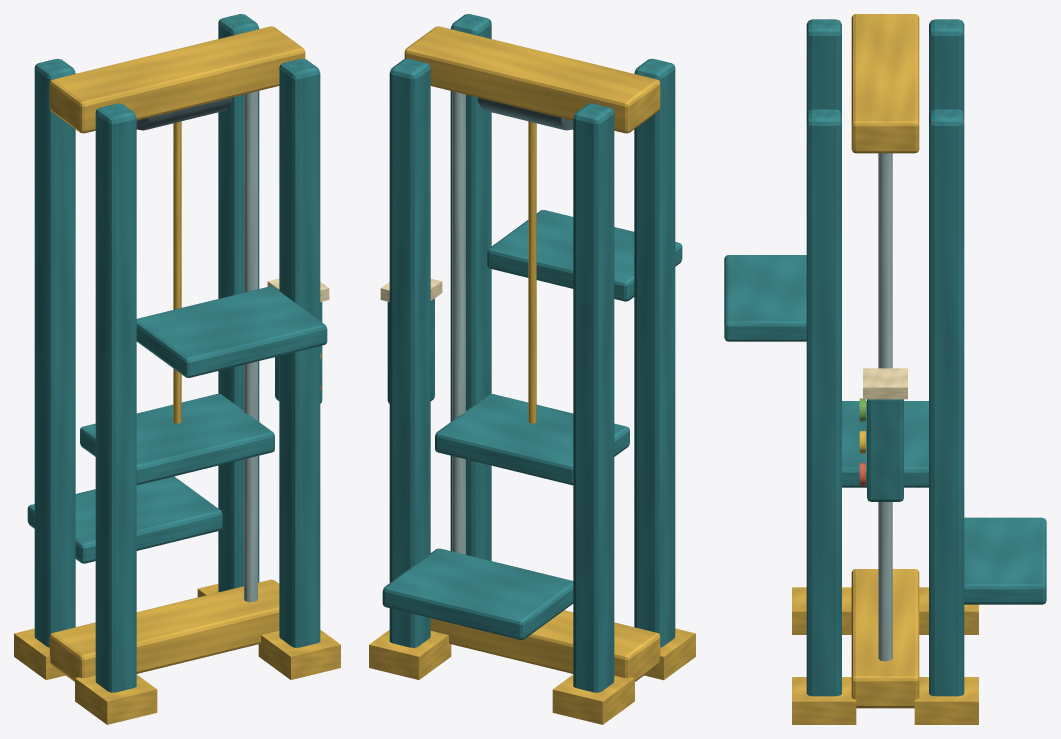
Rendered from industry-lift.glb.
3 renders of one model, left to right at view 1: azimuth 30°, elevation 25°; view 2: azimuth 150°, elevation 25°; view 3: azimuth 270°, elevation 25°, orthographic.
Visible parts, largest first — view 1: industry-lift-mesh; view 2: industry-lift-mesh; view 3: industry-lift-mesh.
Boxes of the visible parts, x1,y1,x2,y2 form: industry-lift-mesh: (14,14,340,724); industry-lift-mesh: (369,14,695,724); industry-lift-mesh: (724,14,1046,724).
Bounding box in the file's own units: 1.85 × 4.11 × 2.
Materials: 1 (1 with a texture image).
